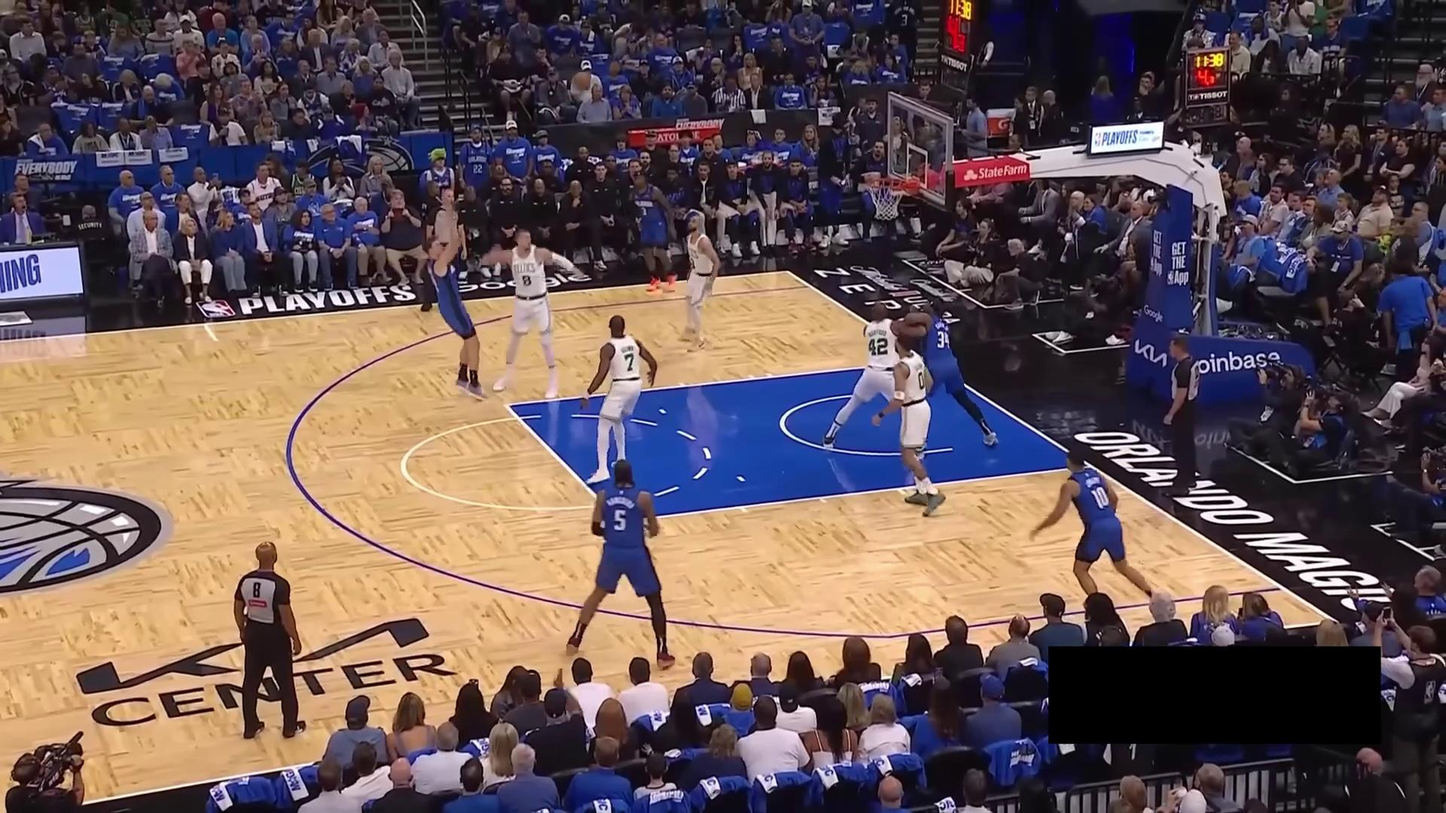ball: (572, 70, 593, 92)
number: (1091, 486, 1109, 509), (868, 338, 889, 356), (613, 509, 627, 532), (936, 330, 949, 349), (624, 353, 634, 371), (521, 273, 532, 288), (917, 371, 925, 389), (641, 206, 648, 217)
player: (564, 458, 677, 670), (1029, 443, 1157, 618), (480, 228, 585, 401), (822, 300, 926, 450), (902, 298, 999, 451), (420, 206, 493, 403), (871, 331, 947, 518), (581, 313, 658, 487), (627, 170, 679, 294), (678, 211, 721, 353)
referee: (233, 540, 306, 740), (1161, 333, 1203, 498), (415, 184, 467, 313)
rim: (863, 177, 907, 190)
